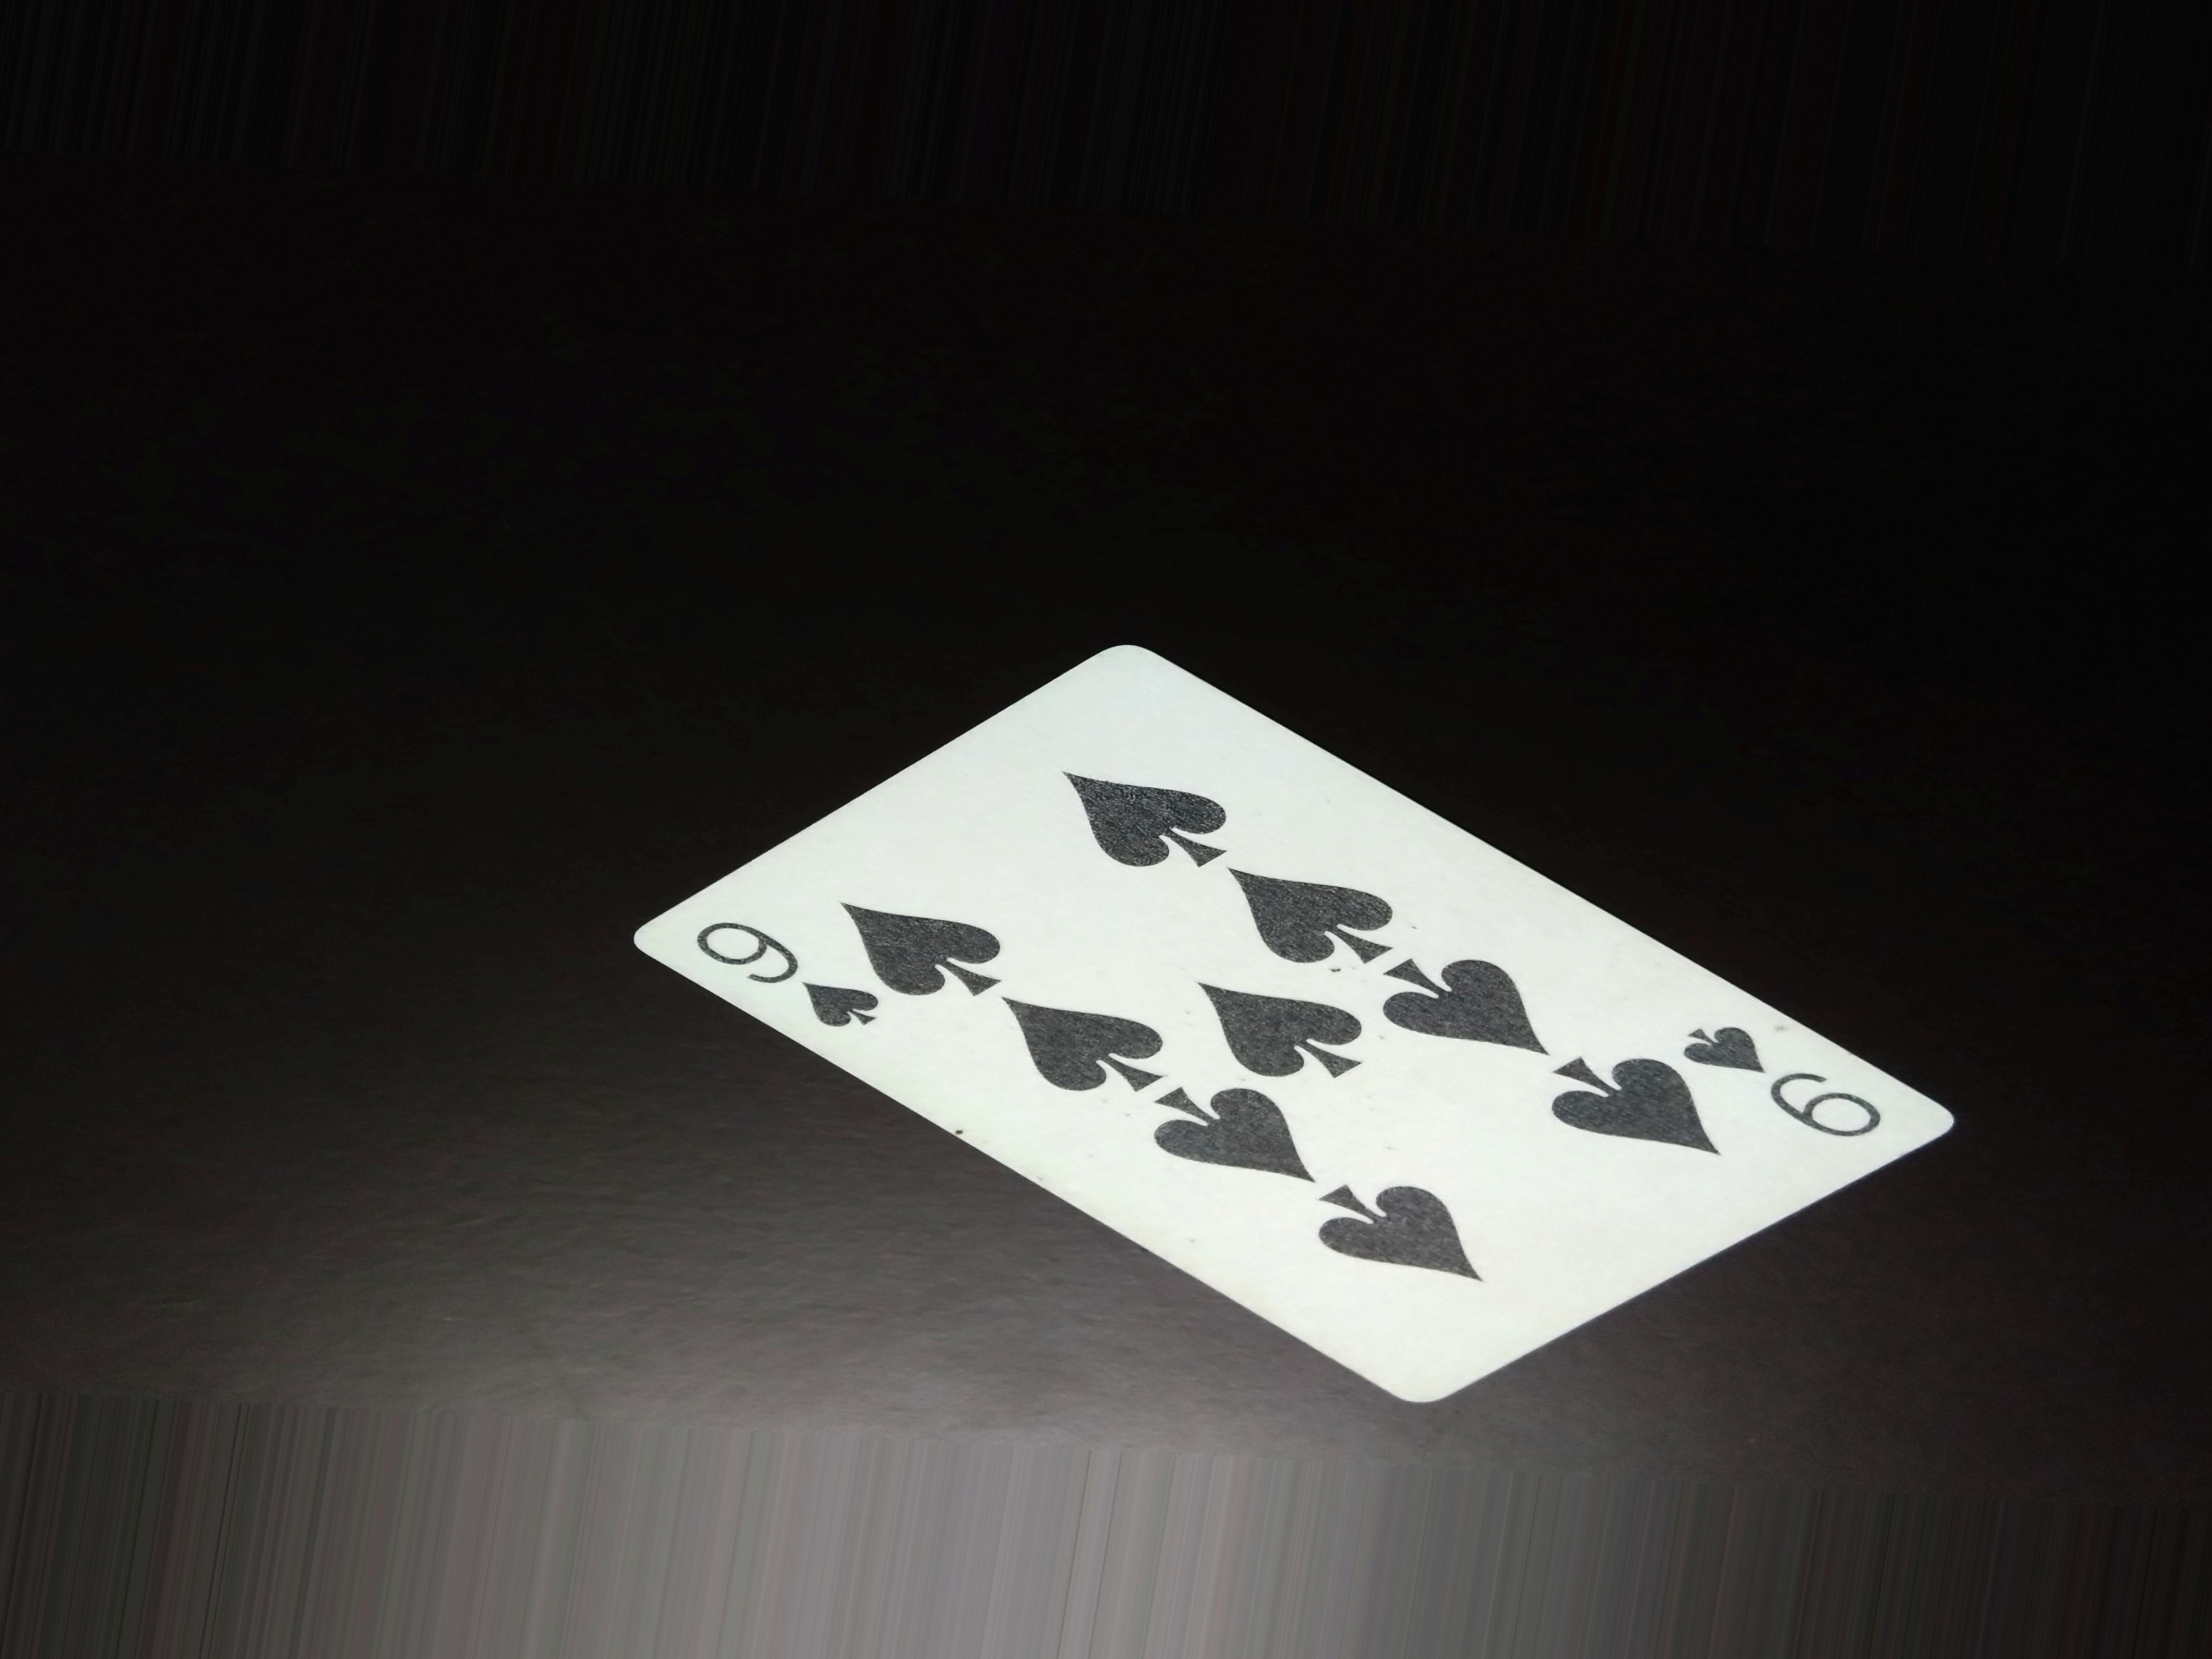9S: (1688, 1014, 1874, 1154)
